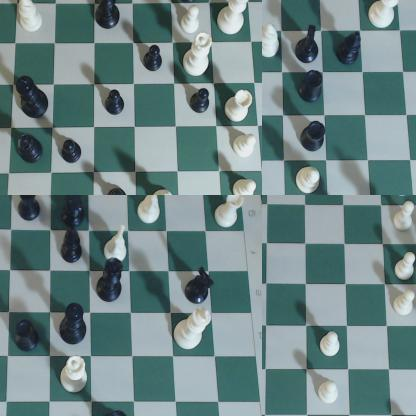black-bishop: (14, 132, 47, 168), (335, 28, 363, 66), (62, 229, 87, 269)
black-king: (14, 72, 52, 123), (60, 302, 91, 347)
black-knight: (185, 265, 218, 305), (296, 21, 322, 64), (59, 196, 90, 228)
black-pawn: (143, 43, 169, 83), (59, 135, 87, 169), (104, 87, 130, 118), (193, 88, 214, 118), (105, 185, 130, 195)
black-queen: (99, 259, 126, 307), (98, 1, 124, 36)
black-rook: (16, 314, 41, 355), (299, 67, 326, 103), (301, 119, 329, 153), (15, 196, 45, 225)
white-bishop: (13, 1, 46, 40), (295, 164, 323, 195), (263, 22, 282, 61)
white-king: (172, 308, 216, 355), (219, 1, 252, 39)
white-knight: (104, 226, 128, 264), (138, 196, 165, 226)
white-pawn: (386, 200, 416, 236), (232, 131, 262, 164), (226, 170, 262, 195), (392, 246, 416, 283), (393, 286, 416, 324), (315, 379, 343, 406), (322, 330, 342, 362), (150, 186, 182, 195)
white-queen: (60, 354, 93, 398), (184, 35, 219, 76), (366, 1, 407, 30)
white-rook: (224, 85, 262, 125), (212, 196, 246, 230)
